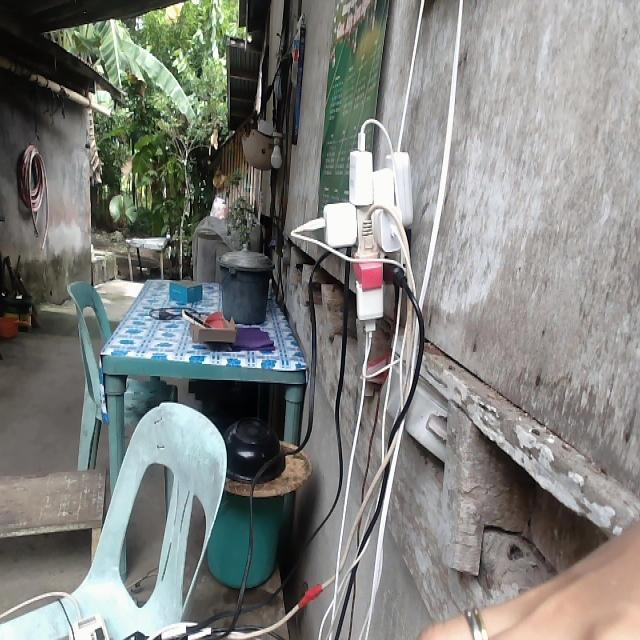-: (302, 144, 421, 335)
